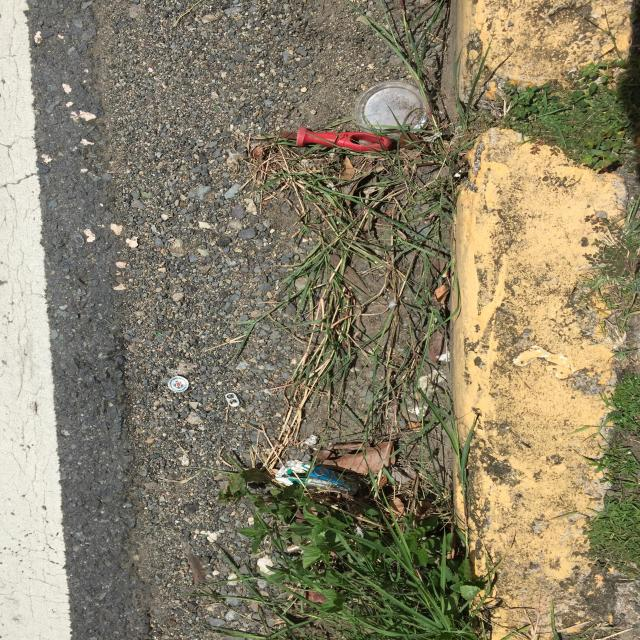litter: (167, 84, 431, 498)
